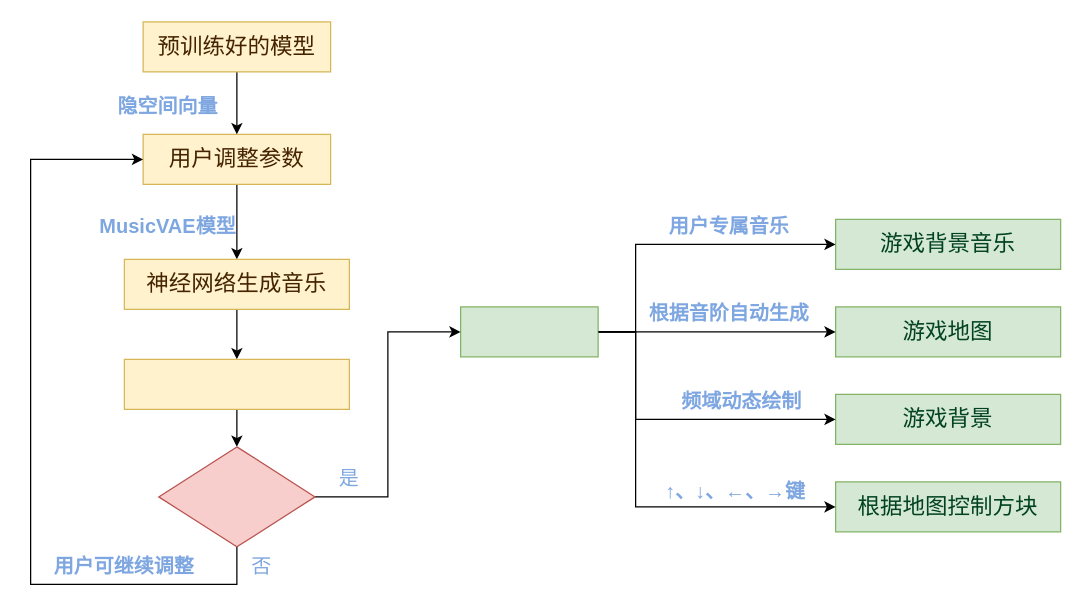
Some shapes in this 1083 by 616 pixel diagram are drawn without their labels. Each missing label, with the box of its shape:
交互式音游: (459, 306, 598, 357)
可视化呈现结果: (123, 358, 349, 409)
用户是否满意: (158, 446, 315, 547)
